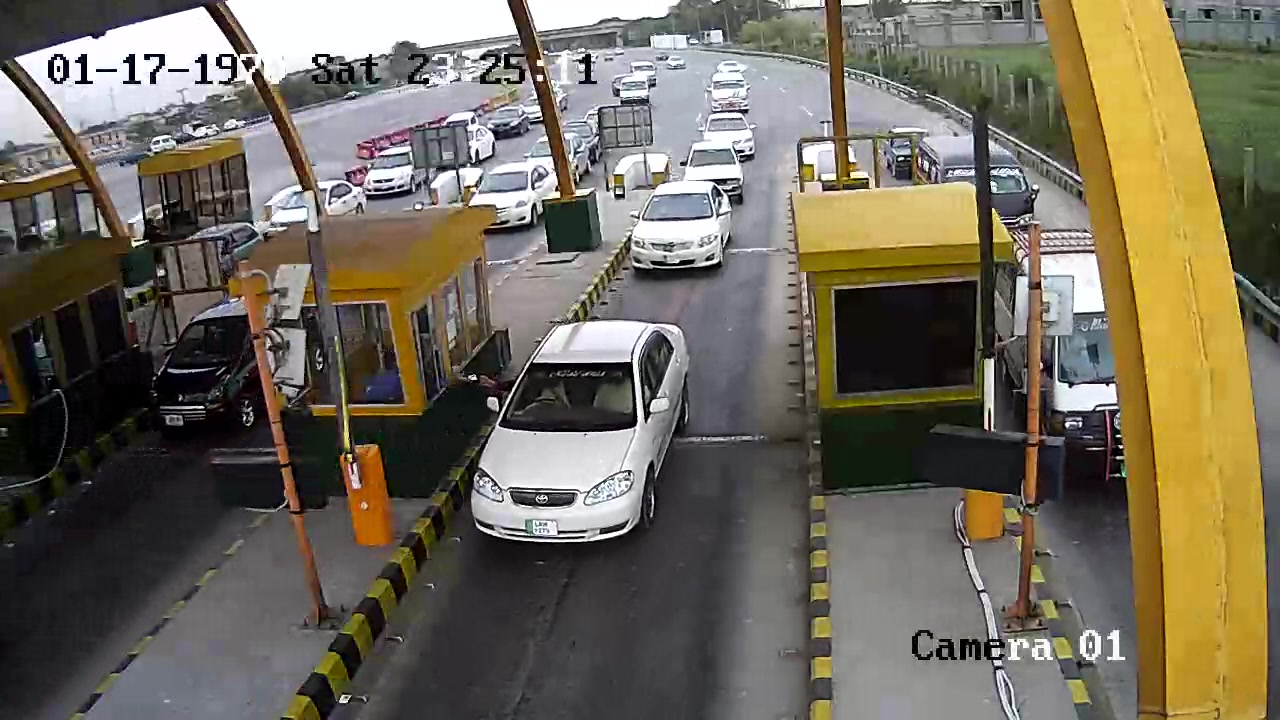F1: (471, 307, 708, 558), (628, 177, 732, 279)
